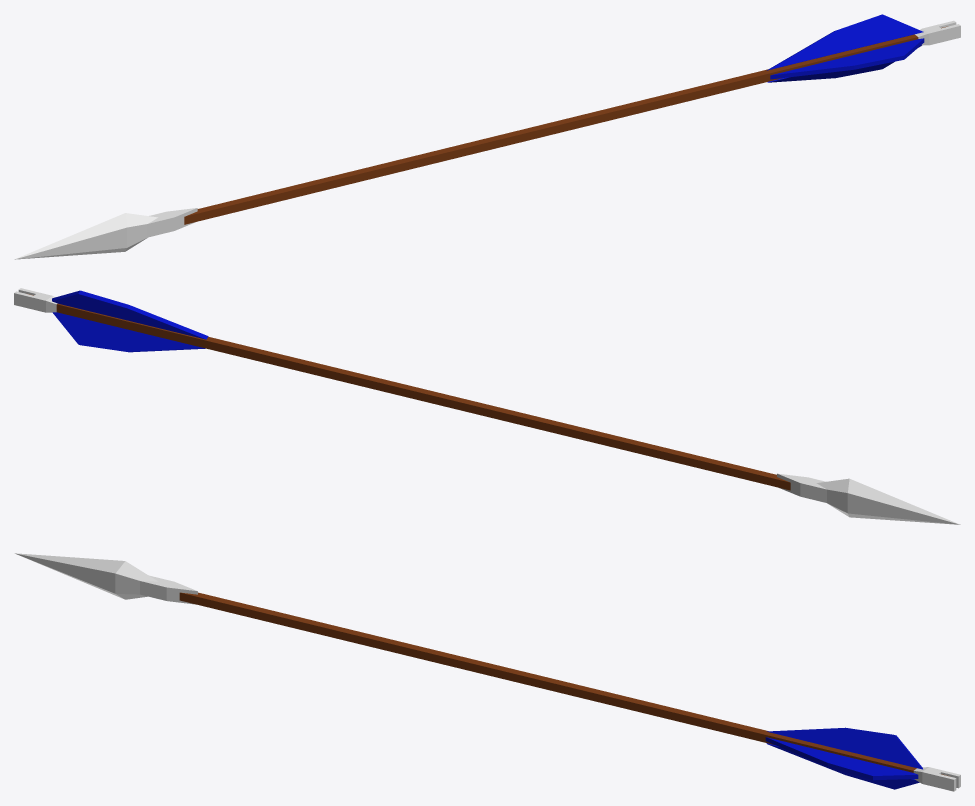
The model's file is Arrow.fbx.
3 views of the same model, one above another, from view 1: azimuth 30°, elevation 25°; view 2: azimuth 150°, elevation 25°; view 3: azimuth 330°, elevation 25° (orthographic).
Parts seen in each view (by area): view 1: Arrow; view 2: Arrow; view 3: Arrow.
Boxes of the visible parts, left/top/right/bottom form: Arrow: left=14, top=14, right=960, bottom=259; Arrow: left=14, top=288, right=960, bottom=524; Arrow: left=15, top=553, right=960, bottom=791.
Bounding box in the file's own units: 65.85 × 3.66 × 2.86.
